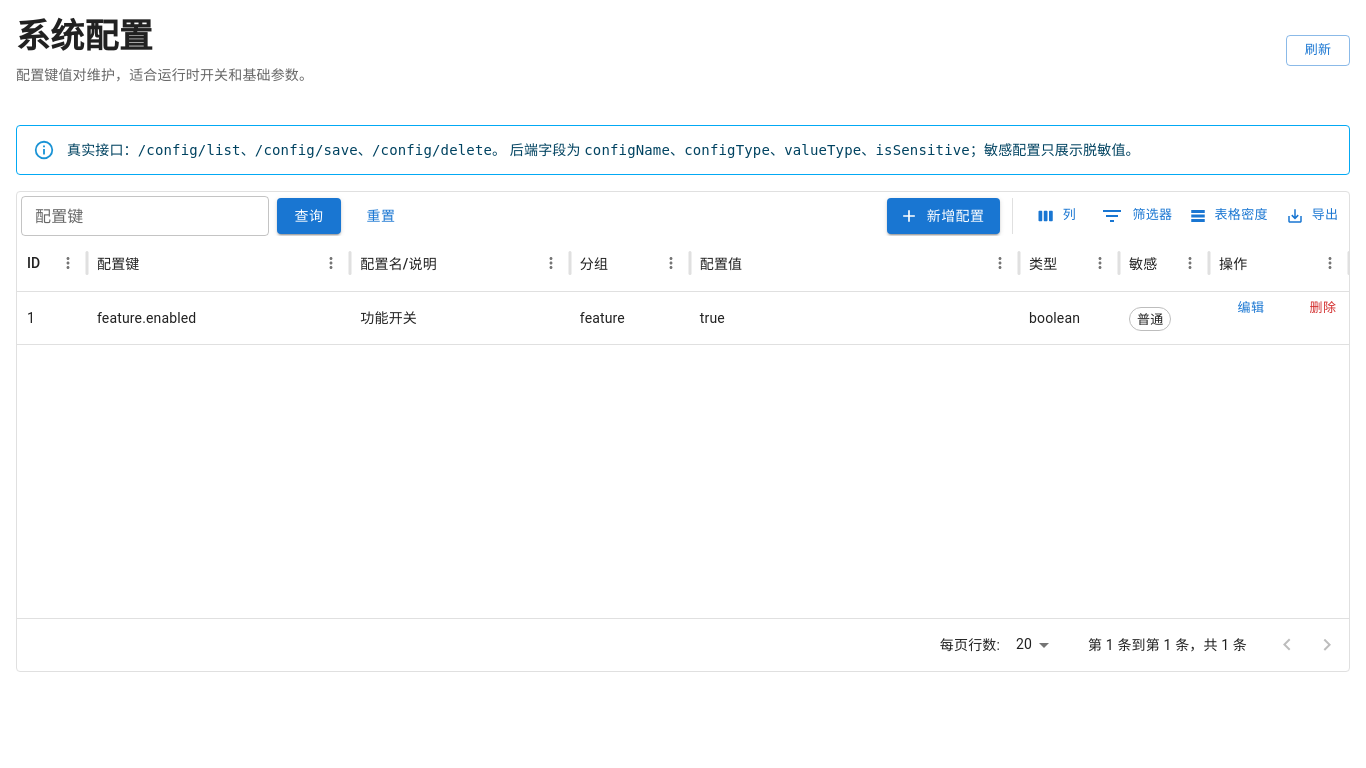
ConfigPage › keeps delete confirm context and row when delete fails
Expected: the text "feature.enabled" is shown, [97, 310, 196, 326]
Click the button "删除": (1323, 308) [1291, 293, 1355, 324]
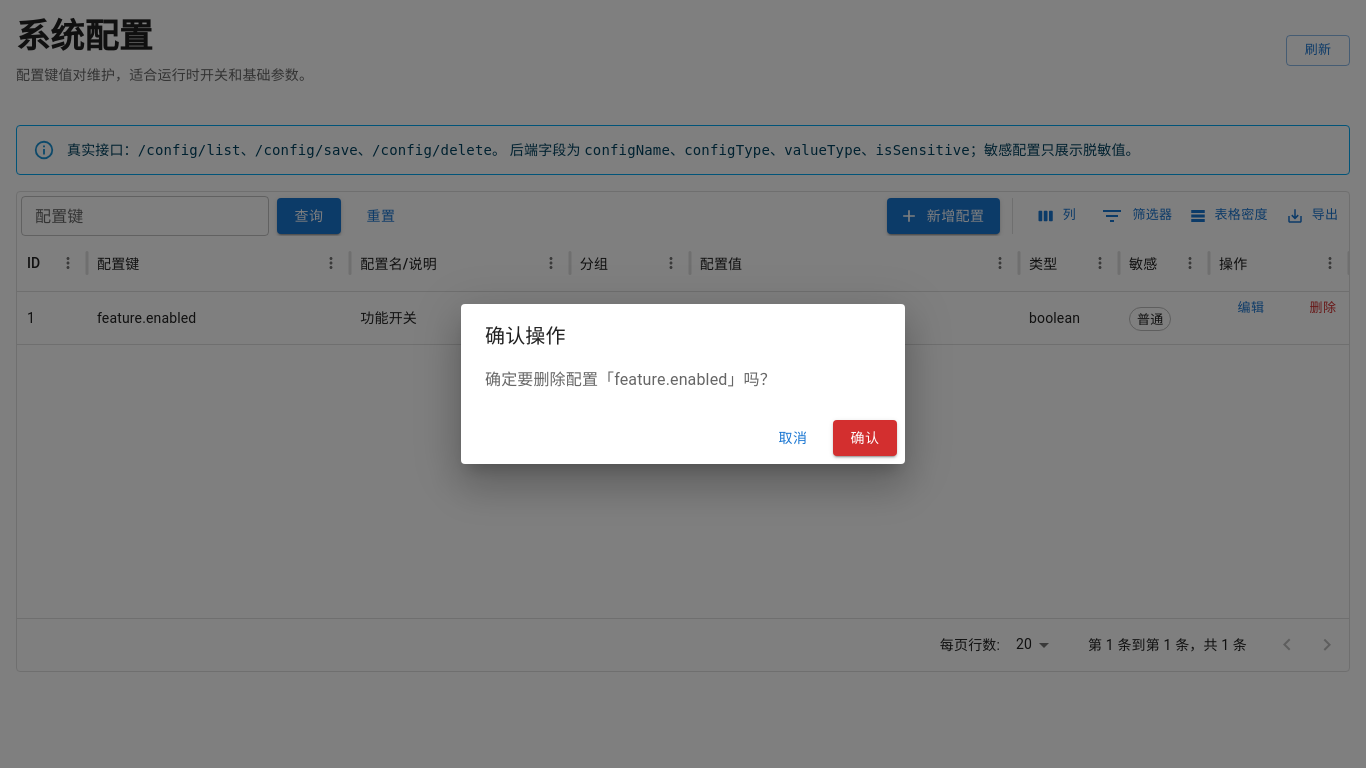
Click the button "确认": (865, 438) [833, 420, 897, 456]
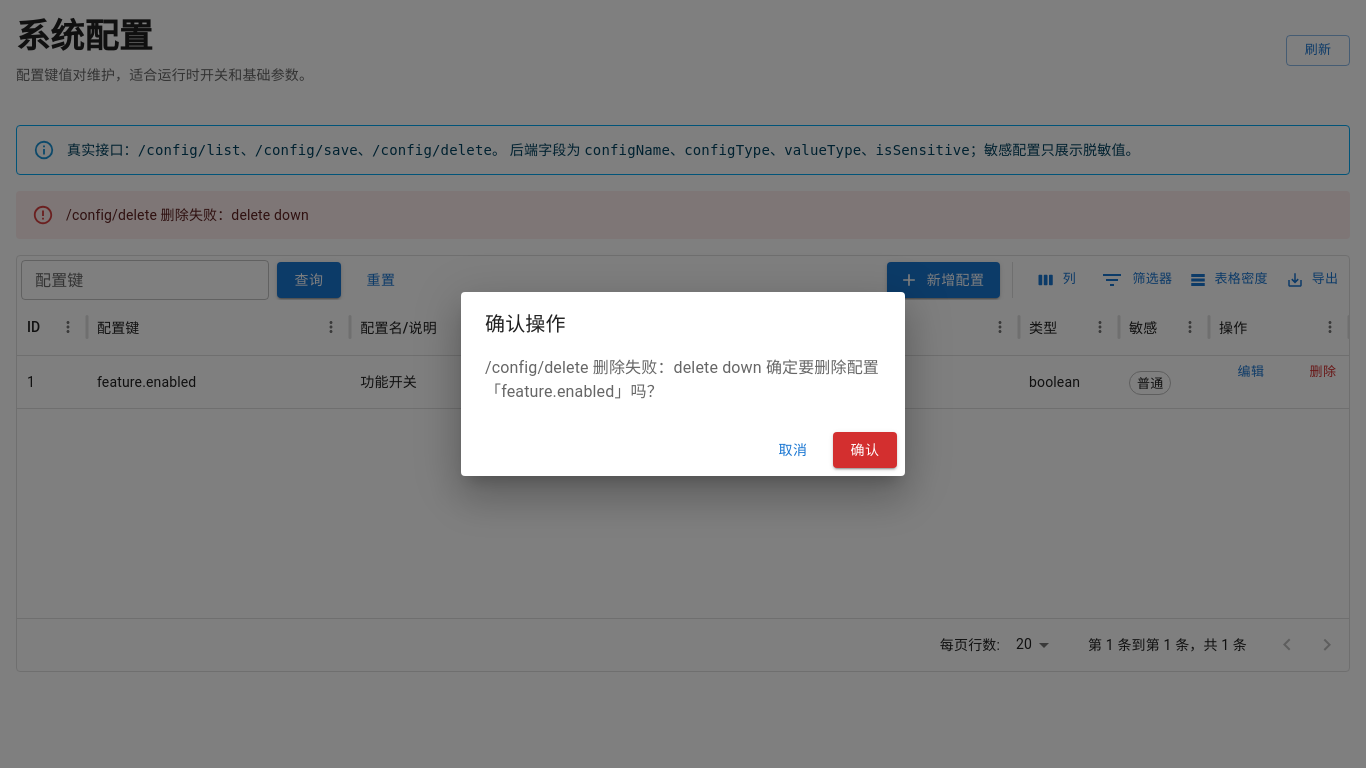
Expected: the text "feature.enabled" is shown, [97, 374, 196, 390]
Result: the text "/config/delete 删除失败：delete down" is shown 2 times at [66, 207, 309, 223]; [485, 356, 881, 404]
